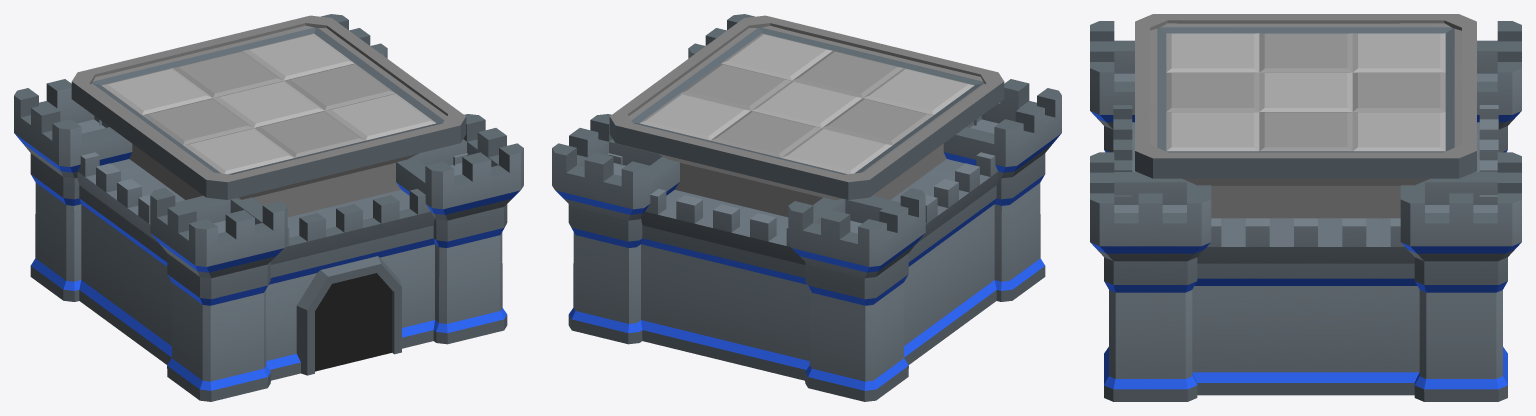
Rendered from Castle_A.fbx.
The picture shows the model from 3 angles, left to right: view 1: azimuth 30°, elevation 25°; view 2: azimuth 150°, elevation 25°; view 3: azimuth 270°, elevation 25°; orthographic projection. The views are drawn at different scales.
Visible parts, largest first — view 1: Castle_A; view 2: Castle_A; view 3: Castle_A.
Boxes of the visible parts, x1,y1,x2,y2 form: Castle_A: (14, 14, 523, 401); Castle_A: (552, 14, 1061, 401); Castle_A: (1090, 14, 1521, 401).
Bounding box in the file's own units: 13.9 × 8.18 × 13.9.
